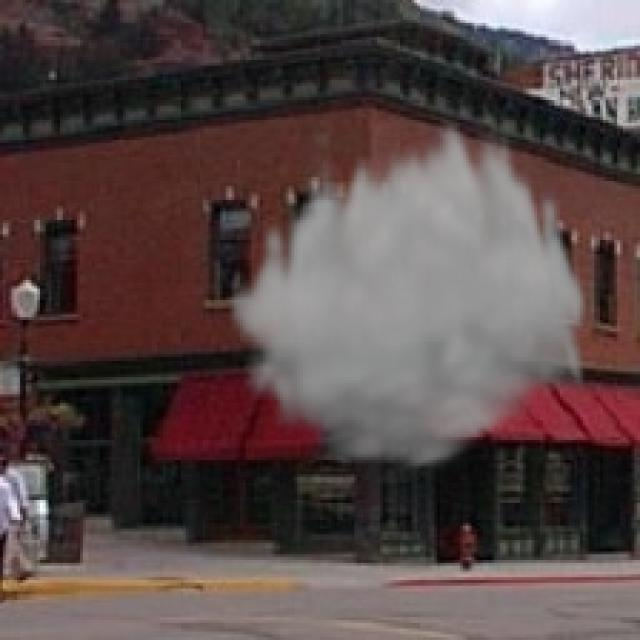Smoke: (223, 106, 592, 477)
